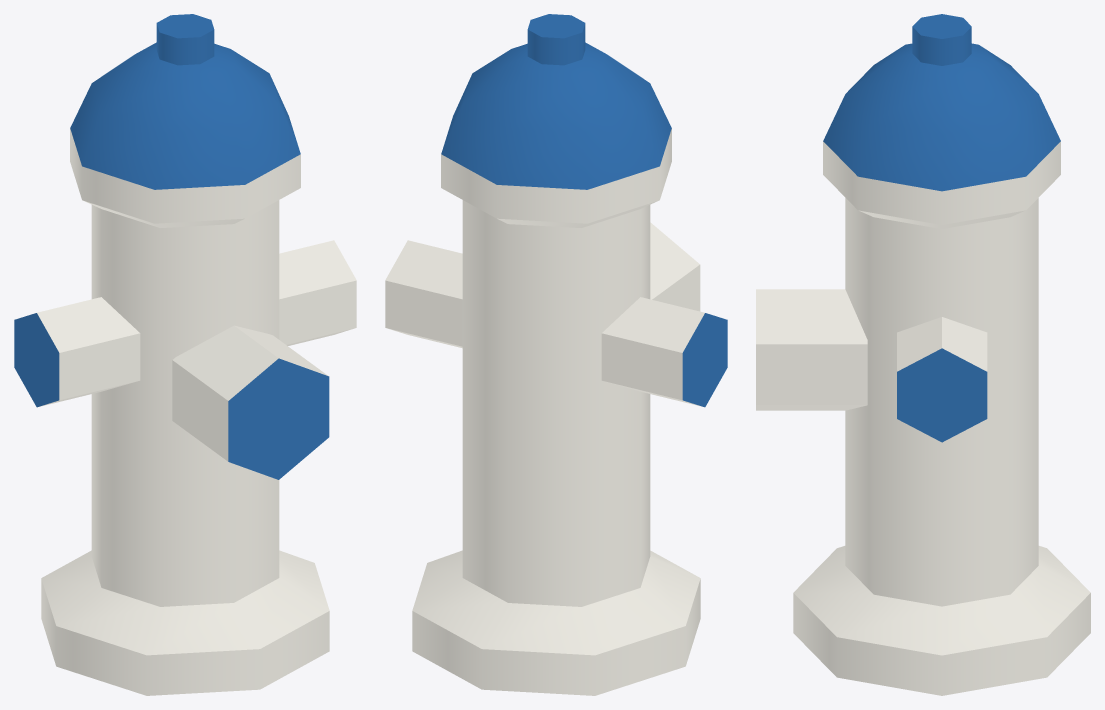
Rendered from sf_hydrant.glb.
The picture shows the model from 3 angles, left to right: view 1: azimuth 30°, elevation 25°; view 2: azimuth 150°, elevation 25°; view 3: azimuth 270°, elevation 25°; orthographic projection.
Visible parts, largest first — view 1: sf_hydrant; view 2: sf_hydrant; view 3: sf_hydrant.
Part boxes in pixels (bbox=[...]): sf_hydrant: bbox=[14, 14, 356, 695]; sf_hydrant: bbox=[385, 14, 727, 695]; sf_hydrant: bbox=[756, 14, 1090, 695].
Size of the model in its own units: 0.4601 by 0.9 by 0.4501.
Materials: 1 (1 with a texture image).
